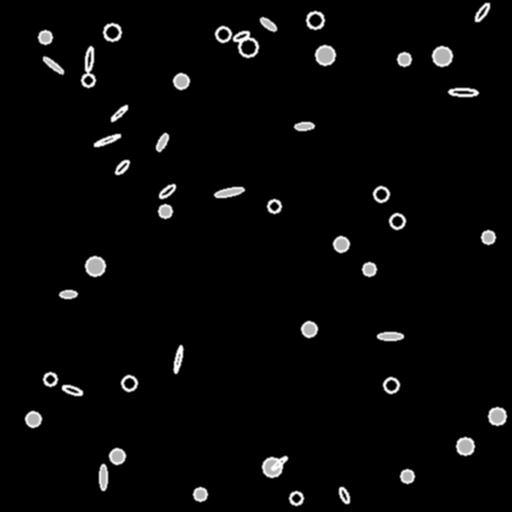pseudomonas: (42, 55, 64, 75), (473, 1, 491, 23), (94, 133, 120, 147), (215, 186, 243, 198), (110, 104, 128, 122), (258, 16, 278, 32), (61, 383, 83, 397), (270, 455, 288, 471), (158, 183, 176, 199), (84, 46, 94, 72), (173, 346, 183, 372), (114, 159, 130, 175), (337, 486, 351, 504), (155, 133, 169, 151), (232, 29, 250, 43), (448, 88, 478, 96), (378, 332, 402, 340), (294, 122, 314, 130), (100, 465, 106, 490), (60, 290, 76, 298)
synechocystis: (239, 38, 257, 56), (263, 458, 281, 476), (316, 46, 334, 64), (433, 47, 451, 65), (86, 257, 104, 275), (489, 408, 505, 424), (307, 12, 323, 28), (457, 438, 473, 454), (104, 24, 120, 40), (26, 412, 40, 426), (216, 27, 230, 41), (122, 376, 136, 390), (384, 378, 398, 392), (302, 322, 316, 336), (334, 237, 348, 251), (390, 214, 404, 228), (374, 187, 388, 201), (174, 74, 188, 88), (110, 449, 124, 463), (482, 231, 494, 243), (268, 200, 280, 212), (44, 373, 56, 385), (39, 31, 51, 43), (82, 74, 94, 86), (194, 488, 206, 500), (401, 470, 413, 482), (159, 205, 171, 217), (363, 263, 375, 275), (290, 492, 302, 504), (398, 53, 410, 65)
